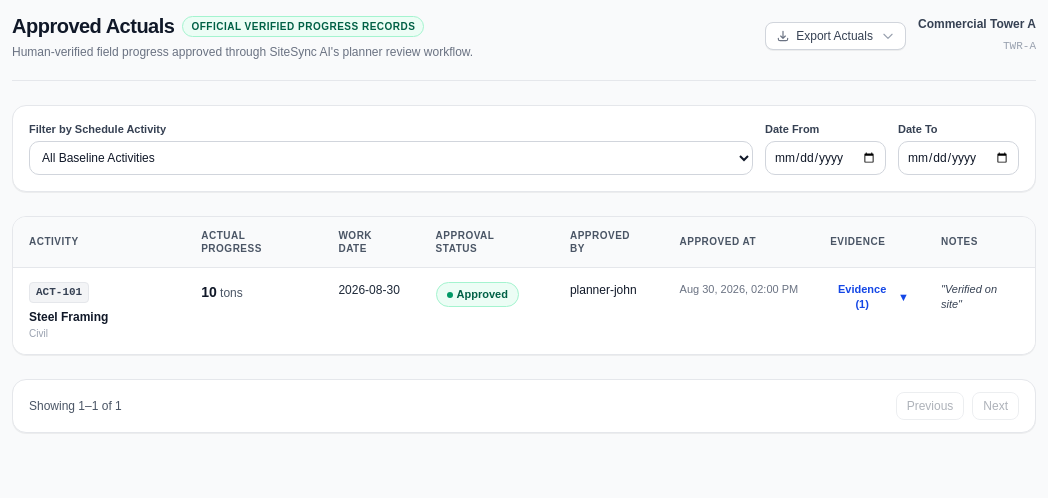
Test: ApprovedActualsPage › validates date range and blocks invalid search request
The image size is (1048, 498).
Type "2026-08-30" into the date field labelled "Date From" at [826, 158], box [765,141,886,175]
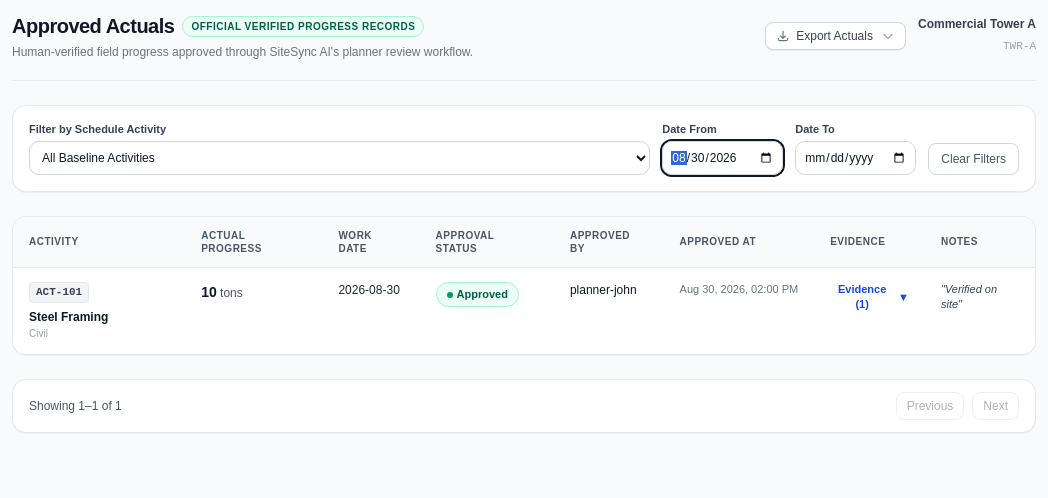
Type "2026-08-01" into the date field labelled "Date To" at [856, 158], box [795,141,916,175]
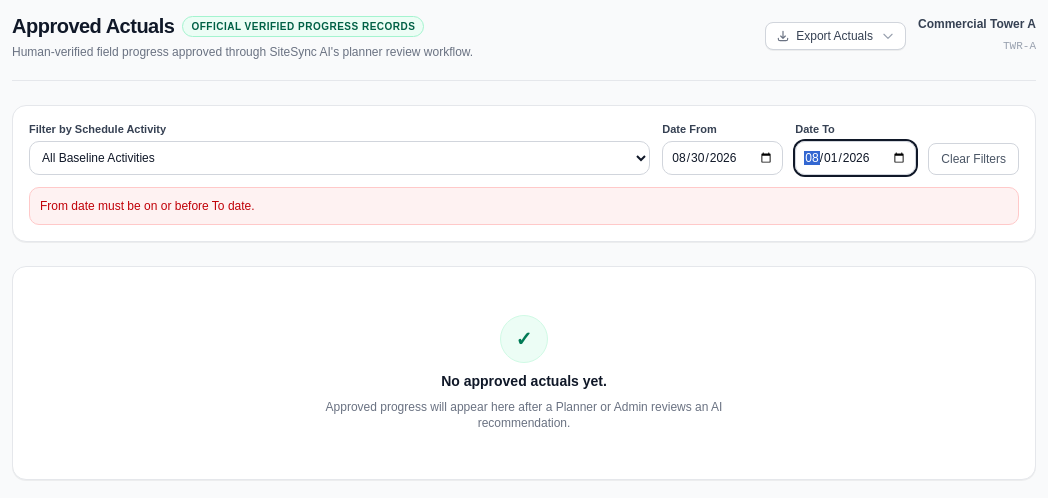
Now the text "From date must be on or before To date." is shown, box [29,187,1019,225]
